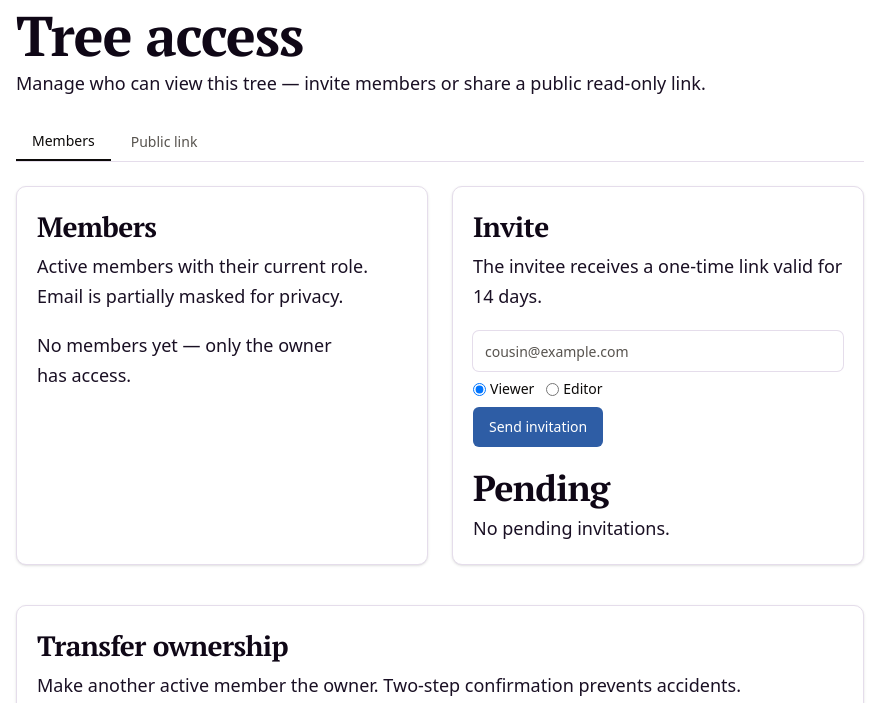
AccessPage › rejects invalid email in invite form
Type "not-an-email" into the field named "Invitee email". click: (658, 351)
box: [473,331,843,371]
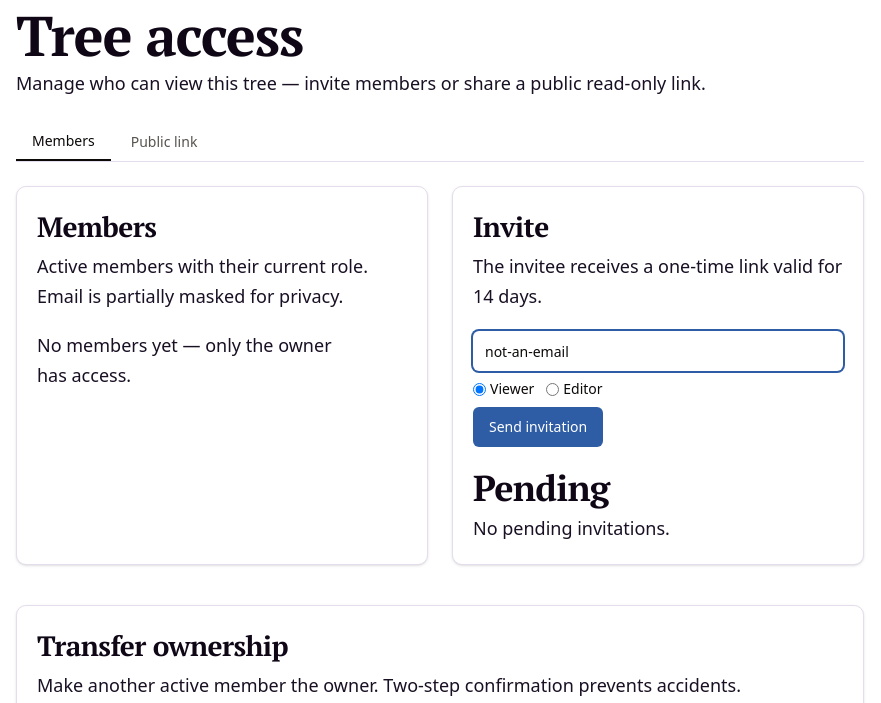
Click the button "Send invitation". click: click(538, 427)
box: [473,407,603,447]
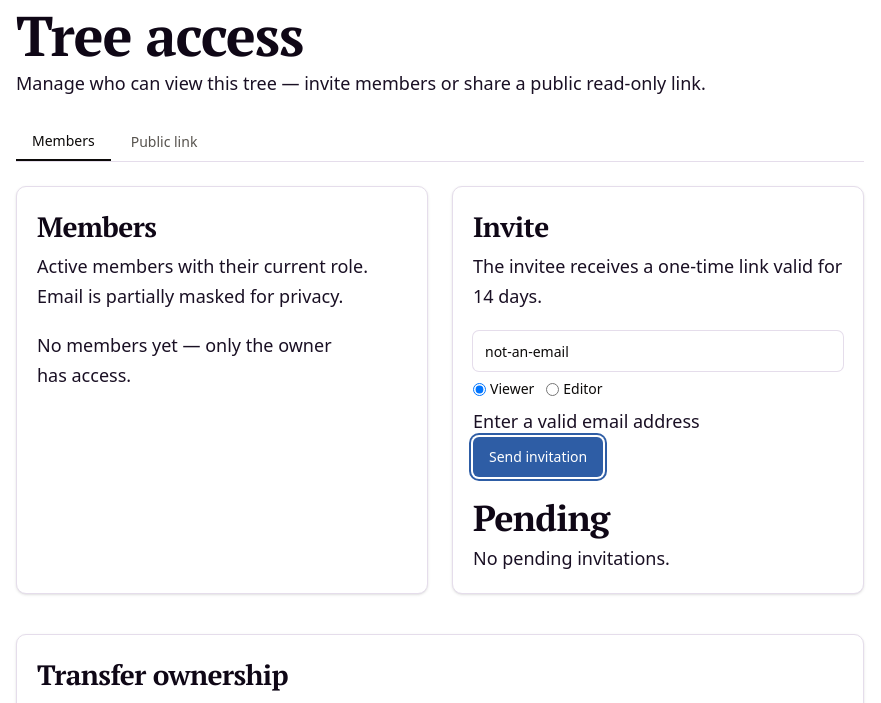
Check: the text "Enter a valid email address" is shown, box [473,409,700,433]
